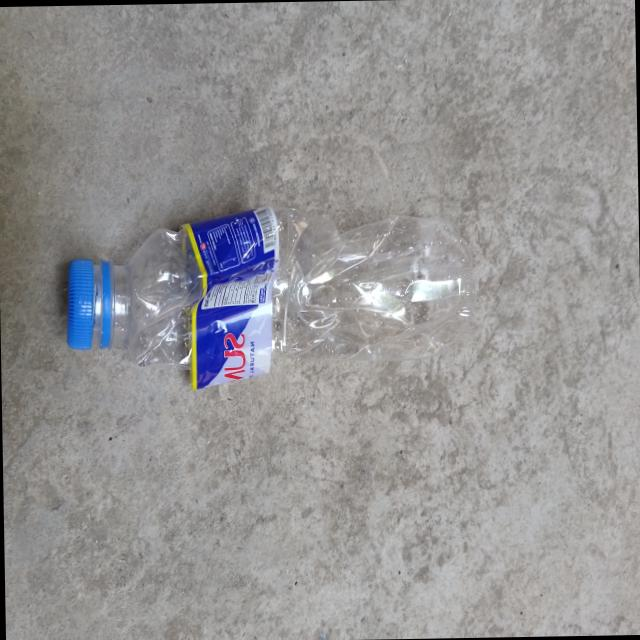Bottle: (68, 206, 475, 388)
